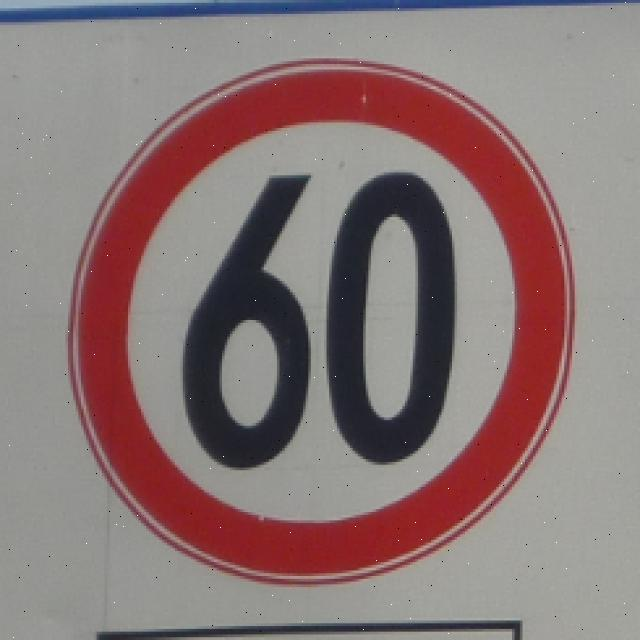speed limit 60: (68, 62, 572, 588)
